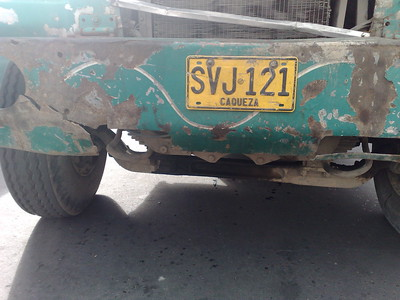placa_carro: (181, 50, 308, 117)
